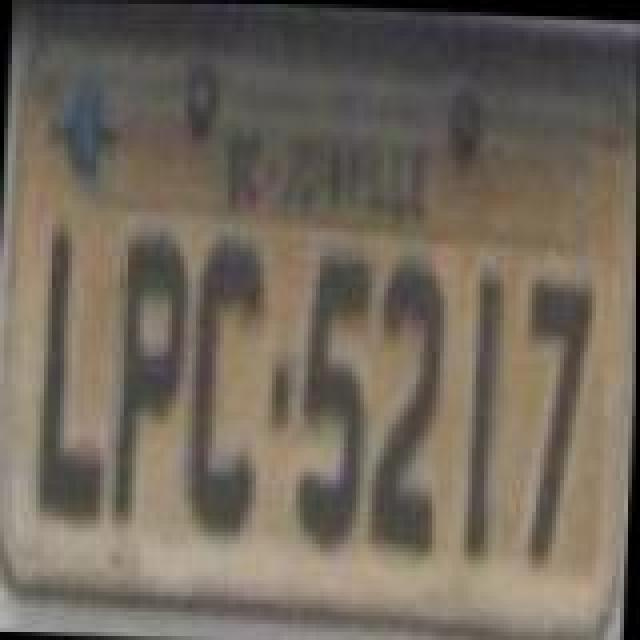1: (462, 264, 502, 560)
2: (366, 254, 454, 562)
5: (290, 246, 378, 554)
7: (512, 272, 592, 572)
C: (184, 226, 268, 546)
L: (32, 222, 116, 530)
P: (112, 226, 196, 534)
